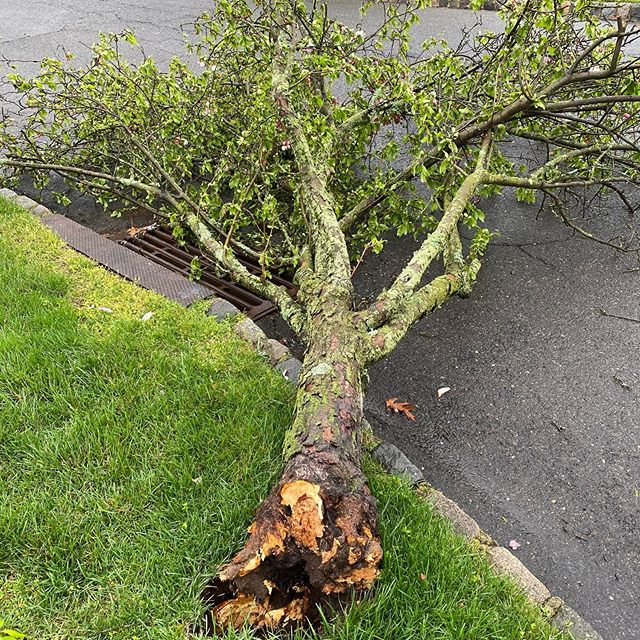grass: (8, 234, 432, 640)
tree: (97, 1, 613, 587)
